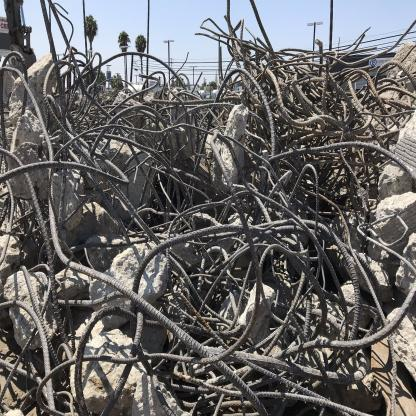rebar: (0, 16, 416, 416)
